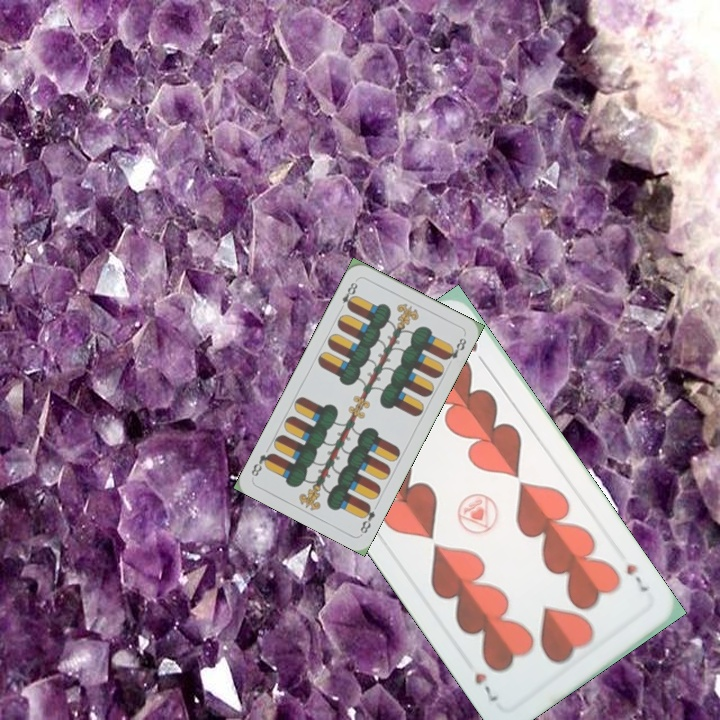E8: (335, 276, 360, 313), (356, 500, 378, 536)
H7: (622, 560, 651, 595)
